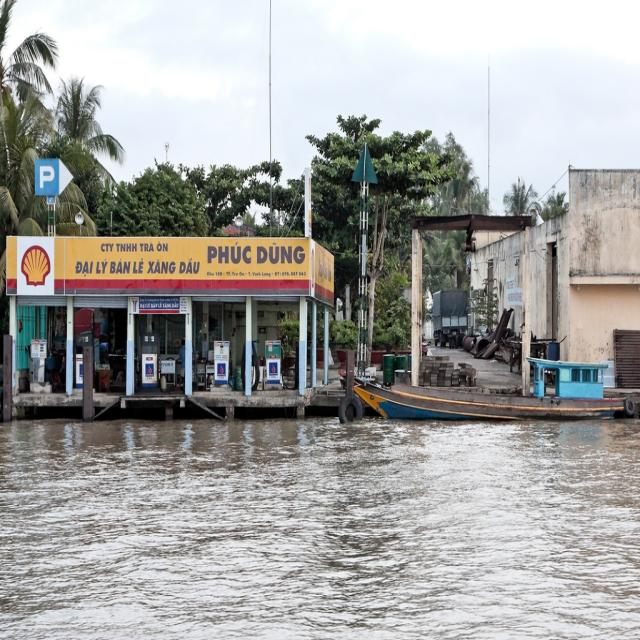shell: (22, 245, 51, 286)
